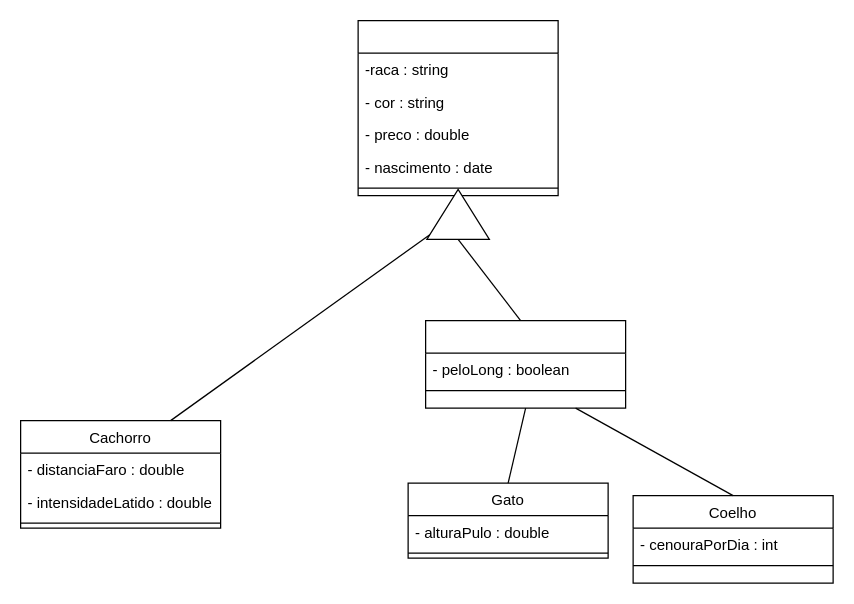
Image size: 854x604. Some labels were removed from this diagram. Each missing label, with the box of its shape:
Classe_pai: (357, 19, 558, 196)
peloLongo: (424, 319, 626, 408)
